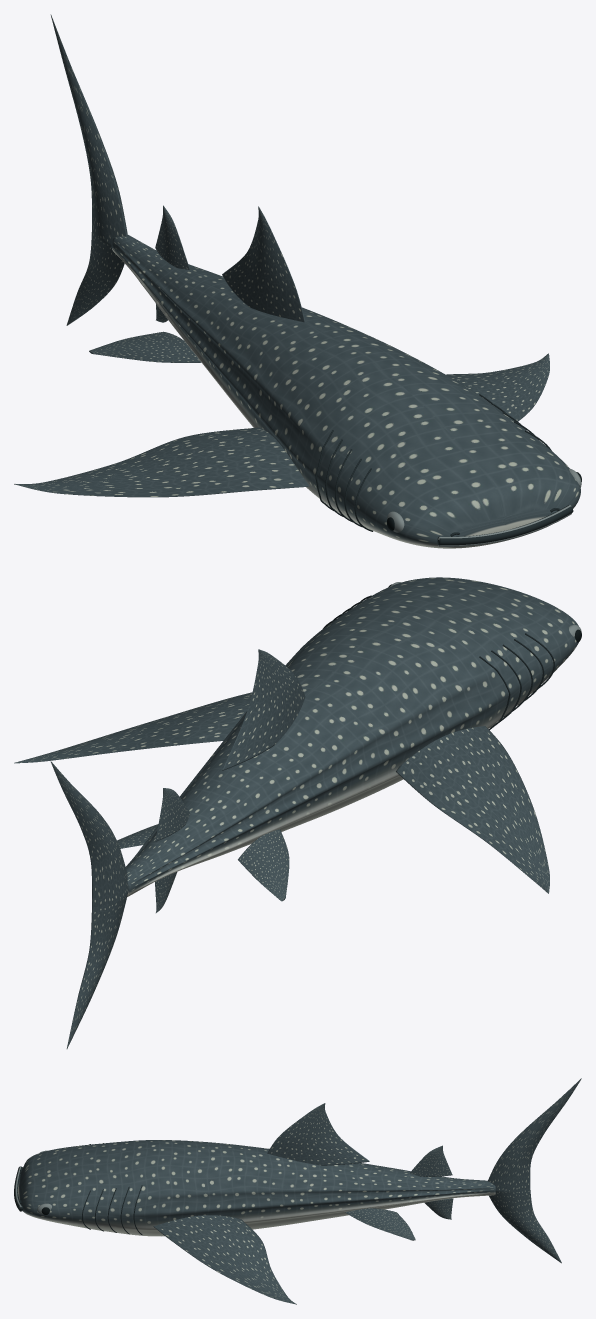
File: whale-shark.glb
3 renders of one model, top to bottom at view 1: azimuth 30°, elevation 25°; view 2: azimuth 150°, elevation 25°; view 3: azimuth 270°, elevation 25°, orthographic. The views are drawn at different scales.
Visible parts, largest first — view 1: Rhincodon_typus_8.3m; view 2: Rhincodon_typus_8.3m; view 3: Rhincodon_typus_8.3m.
Boxes of the visible parts, <box> form: Rhincodon_typus_8.3m: <box>14,14,581,548</box>; Rhincodon_typus_8.3m: <box>14,577,581,1048</box>; Rhincodon_typus_8.3m: <box>14,1078,581,1304</box>.
Bounding box in the file's own units: 5.6 × 3 × 8.34.
6 materials, 2 textured.
